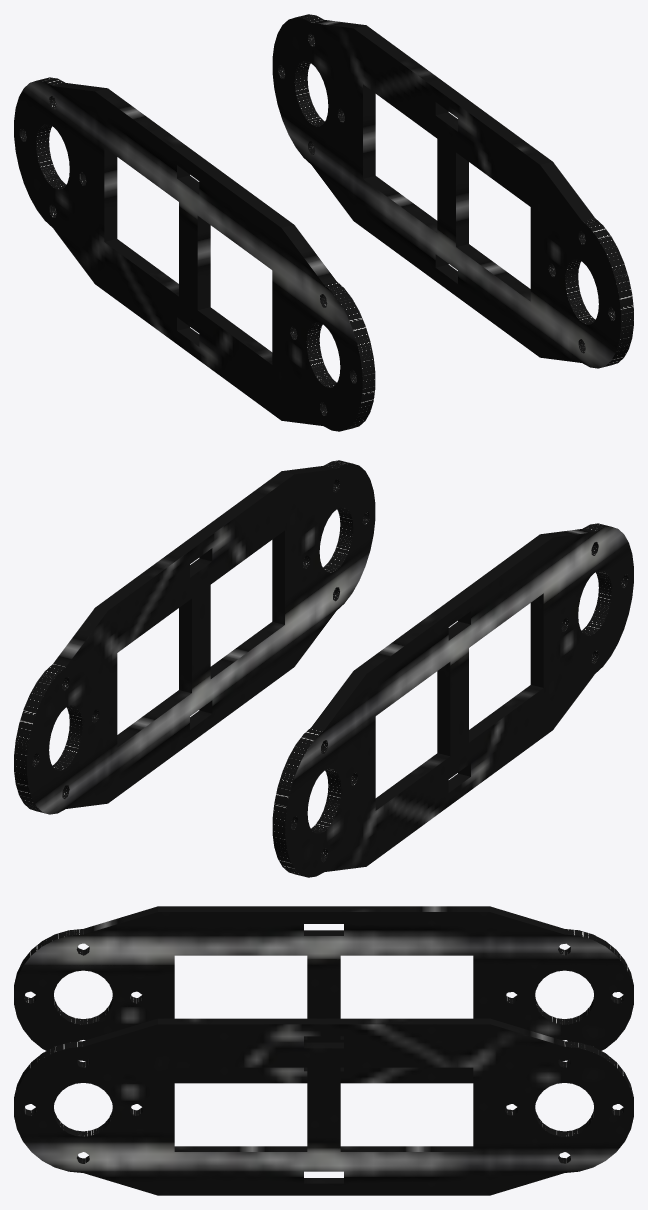
3 views of the same model, one above another, from view 1: azimuth 30°, elevation 25°; view 2: azimuth 150°, elevation 25°; view 3: azimuth 270°, elevation 25° (orthographic). The views are drawn at different scales.
Visible parts, largest first — view 1: mesh_1_manipulator_link1_50-1; view 2: mesh_1_manipulator_link1_50-1; view 3: mesh_1_manipulator_link1_50-1.
Boxes of the visible parts, x1=… form: mesh_1_manipulator_link1_50-1: x1=14, y1=14, x2=633, y2=431; mesh_1_manipulator_link1_50-1: x1=14, y1=460, x2=633, y2=877; mesh_1_manipulator_link1_50-1: x1=14, y1=906, x2=633, y2=1195.
Size of the model in its own units: 0.042 by 0.0934 by 0.0285.
Materials: 1 (1 with a texture image).
